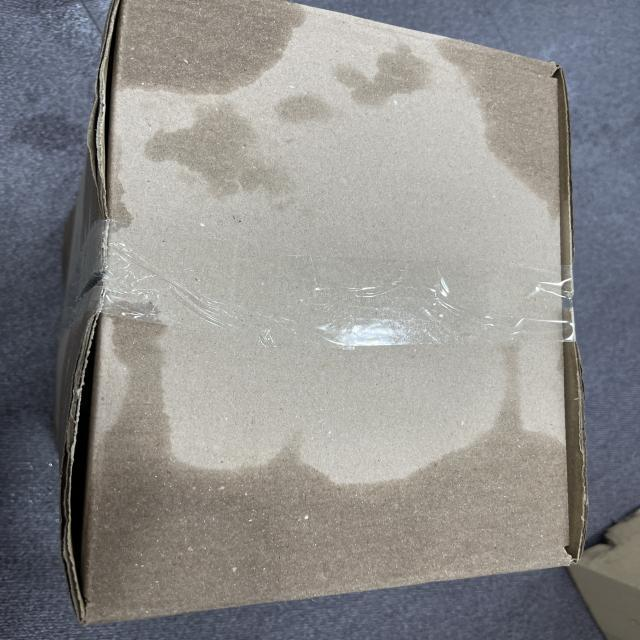wet: (83, 394, 617, 609), (438, 27, 588, 198), (83, 0, 320, 97)
